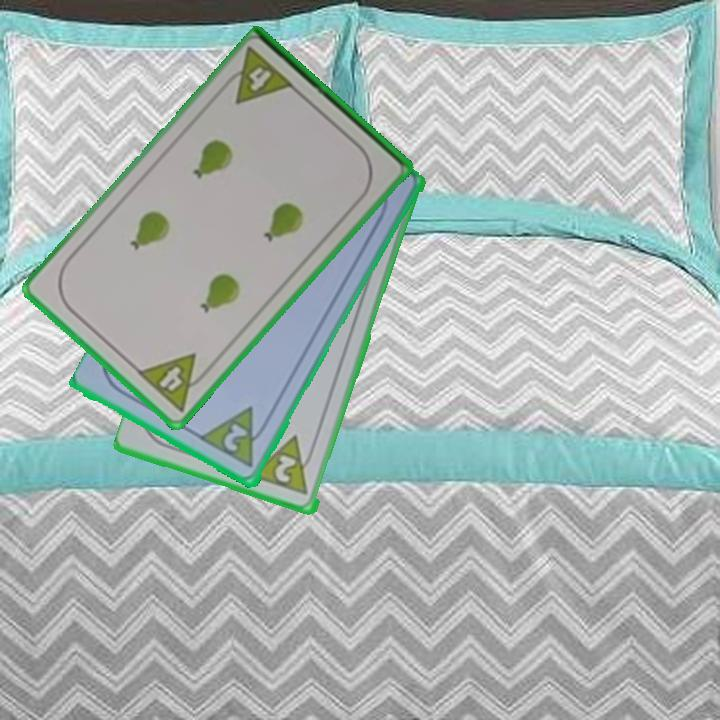2p: (250, 432, 320, 499), (219, 420, 251, 456)
4p: (134, 350, 215, 415), (218, 44, 298, 107)
